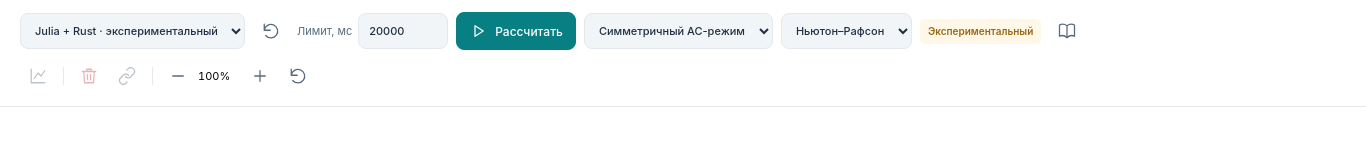
Test: allows explicit selection and disables it during calculation
Select "Julia" in the dropdown named "Вычислительный движок" at (132, 31), box [20,13,245,49]
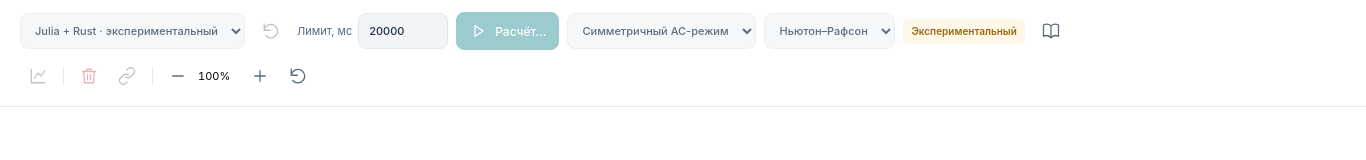
Result: the dropdown named "Вычислительный движок" is disabled at [20,13,245,49]
